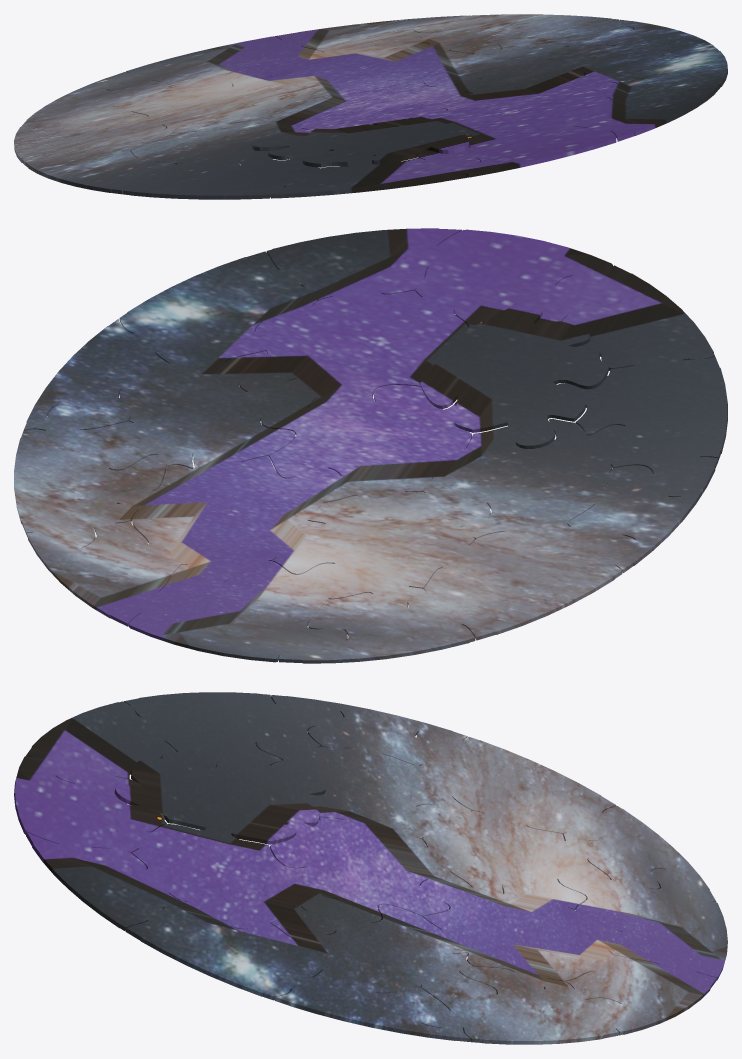
File: Floor_Puzzle_Round_03.fbx
The picture shows the model from 3 angles, top to bottom: view 1: azimuth 30°, elevation 25°; view 2: azimuth 150°, elevation 25°; view 3: azimuth 270°, elevation 25°; orthographic projection. The views are drawn at different scales.
Parts seen in each view (by area): view 1: Plane.015, Plane.018, Plane.014, Plane.009, Plane.017, Plane.001, Plane.016, Plane.013, Plane.011, Plane.005, Plane.007, Plane.012 (+7 smaller); view 2: Plane.018, Plane.014, Plane.015, Plane.009, Plane.016, Plane.017, Plane.011, Plane.012, Plane.013, Plane.005, Plane.007, Plane.001 (+7 smaller); view 3: Plane.018, Plane.014, Plane.015, Plane.009, Plane.017, Plane.016, Plane.007, Plane.005, Plane.012, Plane.011, Plane.013, Plane.001 (+7 smaller).
Boxes of the visible parts, left/top/right/bottom form: Plane.015: left=252, top=116, right=470, bottom=167; Plane.018: left=252, top=38, right=480, bottom=96; Plane.014: left=428, top=75, right=624, bottom=139; Plane.009: left=101, top=32, right=339, bottom=93; Plane.017: left=113, top=75, right=318, bottom=131; Plane.001: left=93, top=150, right=330, bottom=199; Plane.016: left=270, top=79, right=480, bottom=130; Plane.013: left=423, top=39, right=618, bottom=93; Plane.011: left=14, top=111, right=166, bottom=166; Plane.005: left=575, top=48, right=727, bottom=105; Plane.007: left=414, top=14, right=633, bottom=54; Plane.012: left=127, top=111, right=326, bottom=170; Plane.018: left=111, top=440, right=341, bottom=581; Plane.014: left=239, top=265, right=481, bottom=400; Plane.015: left=420, top=303, right=609, bottom=448; Plane.009: left=108, top=557, right=348, bottom=662; Plane.016: left=261, top=385, right=472, bottom=502; Plane.017: left=273, top=491, right=490, bottom=607; Plane.011: left=424, top=523, right=640, bottom=640; Plane.012: left=399, top=419, right=634, bottom=539; Plane.013: left=109, top=351, right=317, bottom=470; Plane.005: left=119, top=251, right=339, bottom=381; Plane.007: left=14, top=400, right=166, bottom=547; Plane.001: left=557, top=356, right=727, bottom=497; Plane.018: left=416, top=879, right=627, bottom=991; Plane.014: left=102, top=819, right=336, bottom=934; Plane.015: left=114, top=749, right=325, bottom=844; Plane.009: left=557, top=869, right=727, bottom=988; Plane.017: left=413, top=804, right=610, bottom=910; Plane.016: left=270, top=817, right=471, bottom=922; Plane.007: left=406, top=966, right=620, bottom=1044; Plane.005: left=116, top=890, right=340, bottom=1000; Plane.012: left=256, top=737, right=471, bottom=850; Plane.011: left=416, top=728, right=616, bottom=835; Plane.013: left=271, top=895, right=496, bottom=993; Plane.001: left=124, top=692, right=343, bottom=775.
Size of the model in its own units: 545 by 128 by 531.
